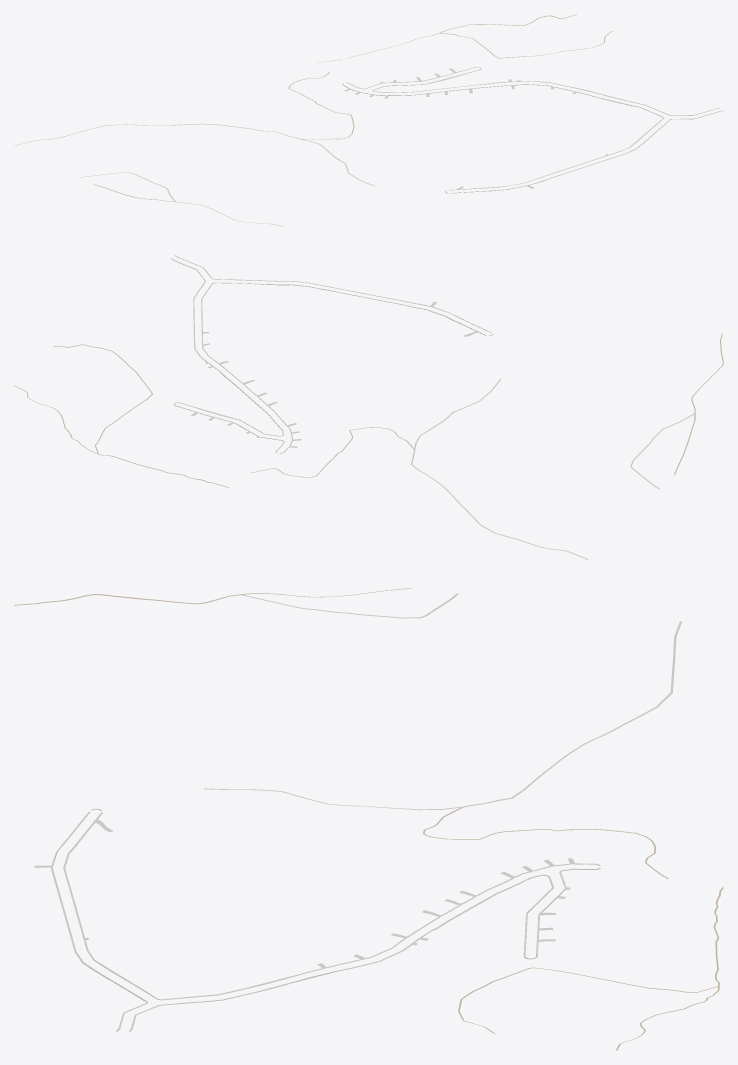
File: ground_r6_c3.glb
3 views of the same model, one above another, from view 1: azimuth 30°, elevation 25°; view 2: azimuth 150°, elevation 25°; view 3: azimuth 270°, elevation 25° (orthographic). The views are drawn at different scales.
Visible parts, largest first — view 1: sidewalks, paths; view 2: paths, sidewalks; view 3: paths, sidewalks, driveways.
Part boxes in pixels (bbox=[...]): sidewalks: bbox=[342, 66, 723, 193]; paths: bbox=[14, 14, 612, 226]; paths: bbox=[14, 333, 723, 559]; sidewalks: bbox=[171, 255, 493, 453]; paths: bbox=[14, 588, 723, 1050]; sidewalks: bbox=[51, 808, 600, 1031]; driveways: bbox=[34, 819, 575, 968].
Bounding box in the file's own units: 1125 × 96.8 × 749.
